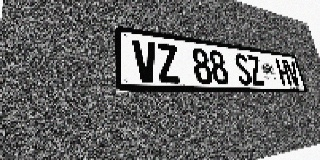8: (191, 47, 214, 84), (208, 50, 230, 85)
H: (275, 59, 292, 86)
S: (233, 53, 253, 85)
V: (132, 39, 159, 83), (285, 60, 301, 87)
Z: (156, 43, 181, 83), (246, 55, 265, 86)
